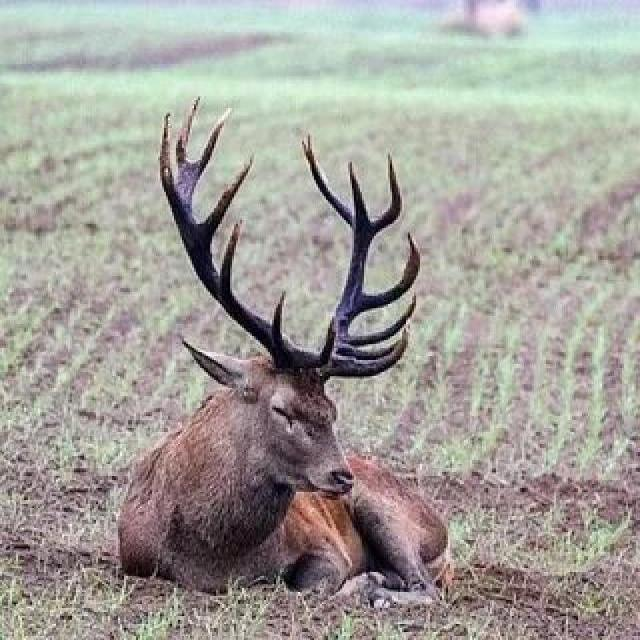deer: (57, 101, 480, 630)
